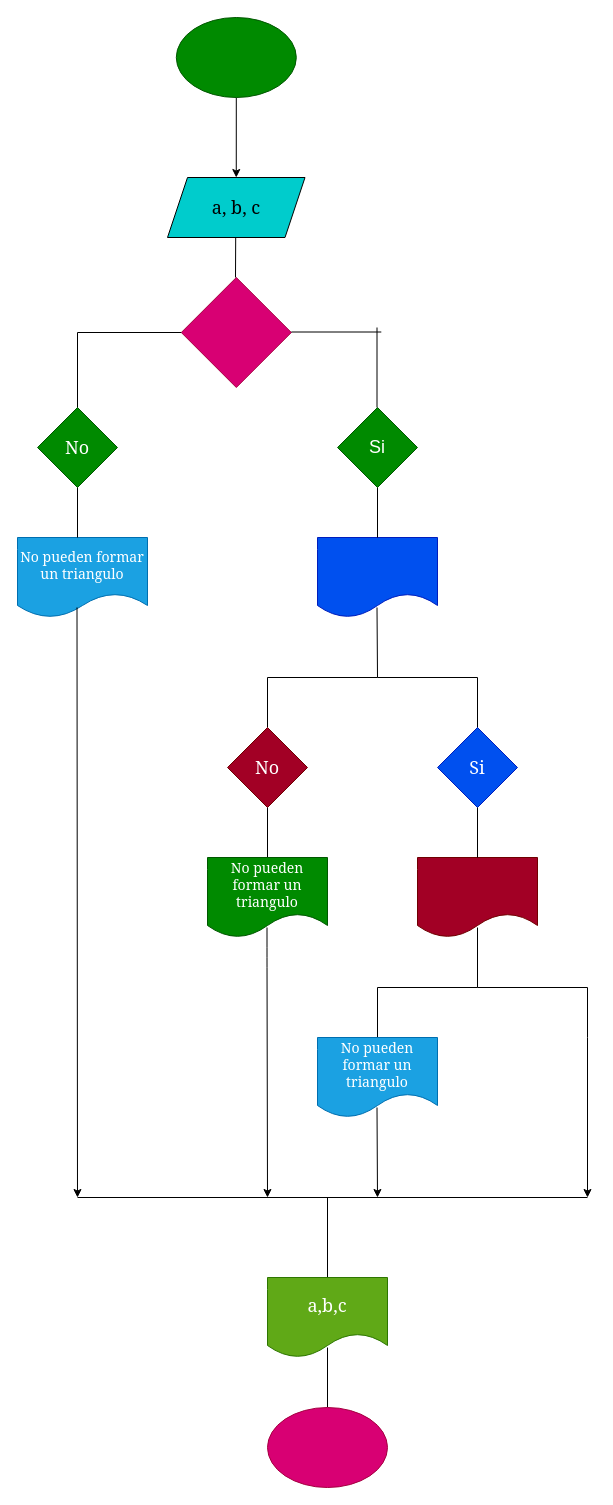
Some shapes in this 613 by 1505 pixel diagram are drawn without their labels. Each missing label, with the box of its shape:
a+b>c: (180, 276, 291, 388)
a+c>b: (316, 536, 438, 618)
b+c>a: (416, 856, 538, 938)
Fin: (266, 1406, 388, 1488)
Inicio: (175, 16, 296, 98)
